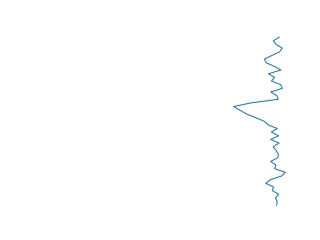interdistributaryEstuary: (231, 38, 289, 206)
